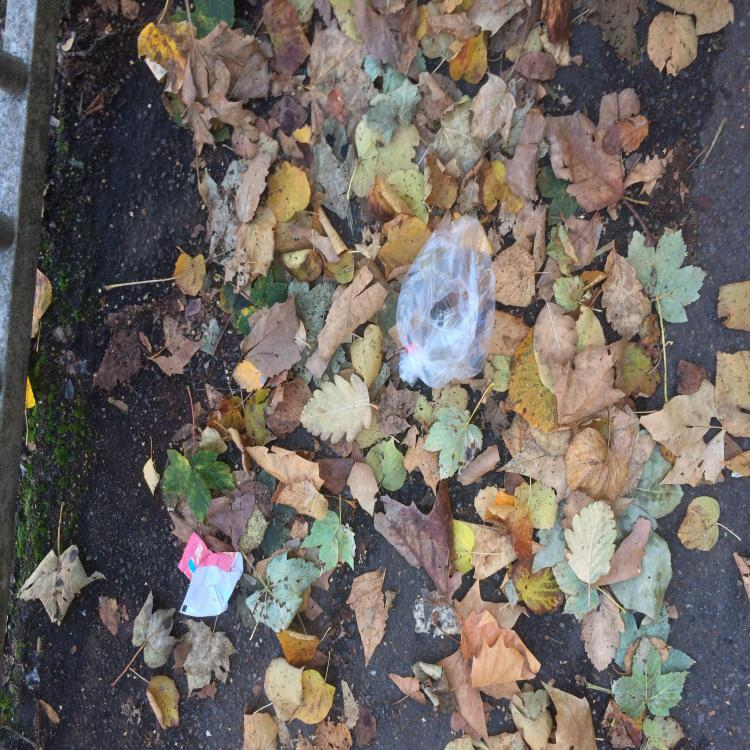Other plastic: (178, 532, 243, 617)
Plastic film: (396, 215, 495, 389)
